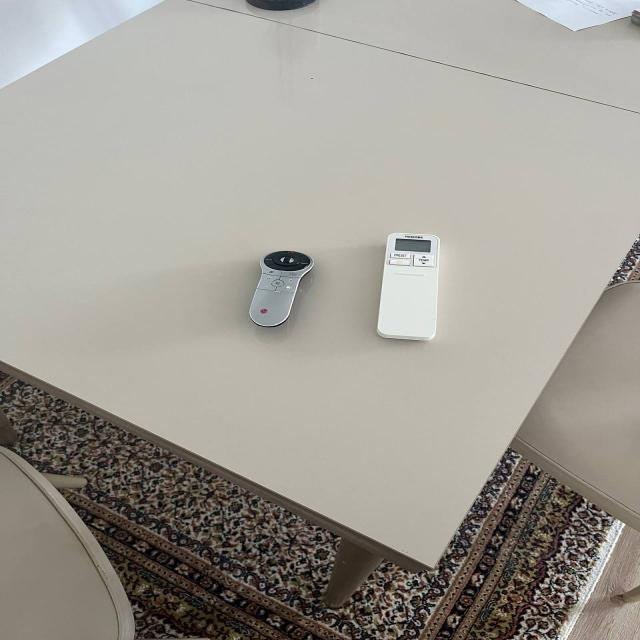remote: (374, 217, 449, 355), (248, 243, 314, 340)
